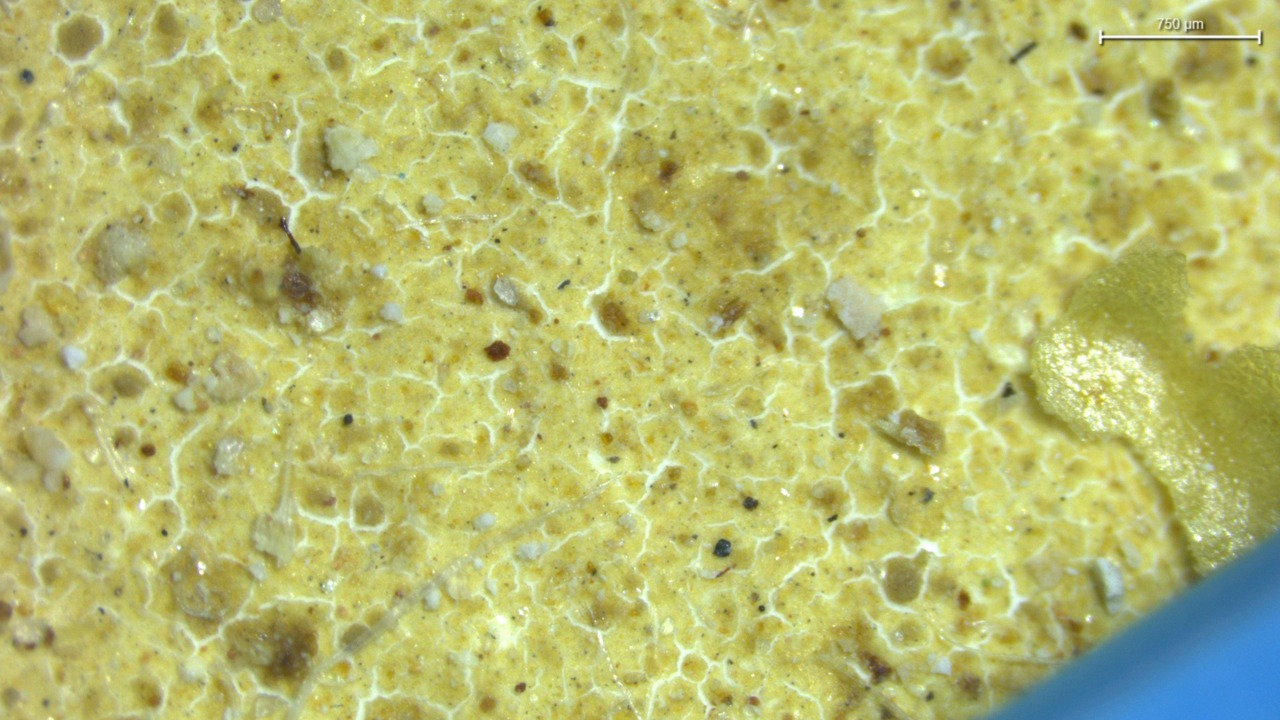microplastic_fragment: (826, 277, 886, 339), (323, 126, 377, 173)
